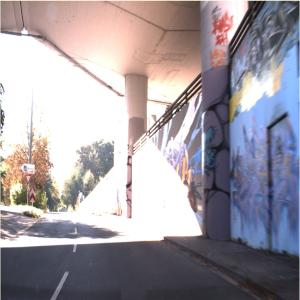give way: (26, 175, 33, 186)
